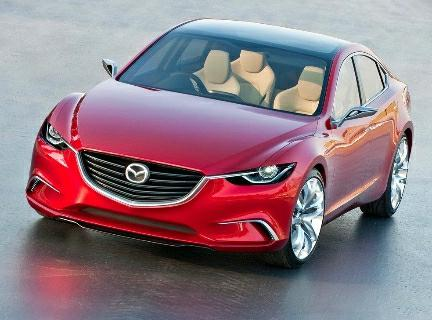car: (21, 13, 416, 268)
